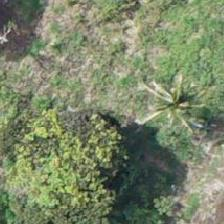coconut_tree: (126, 60, 216, 150)
